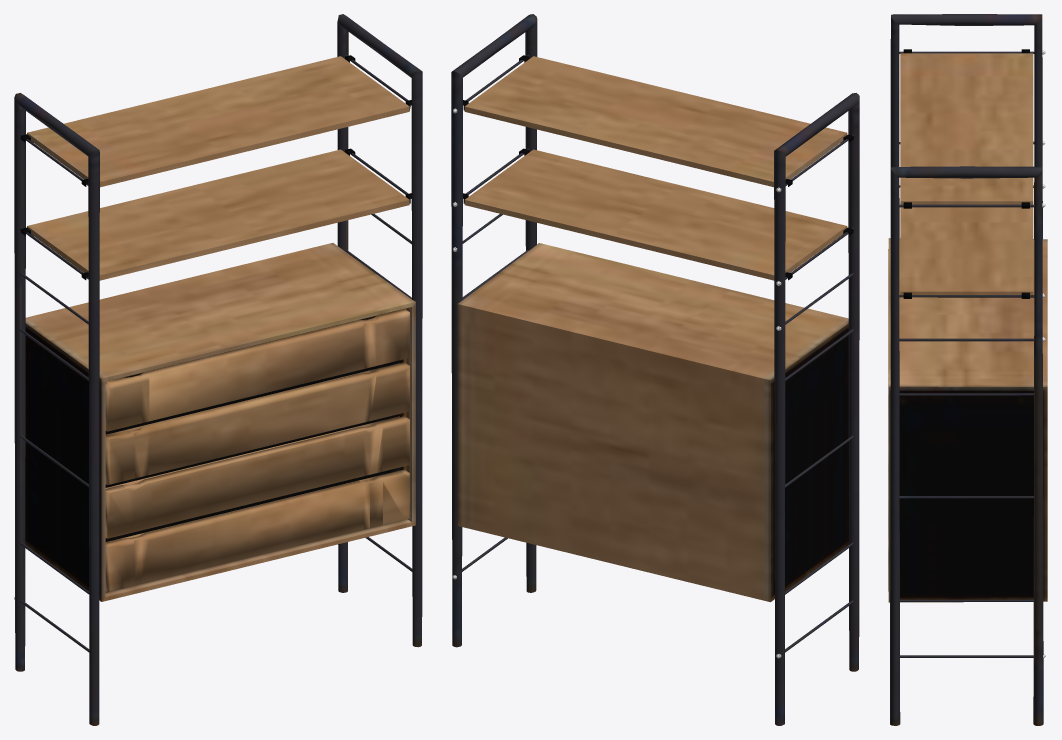
The model's file is dresser-drawer.lite.75bb02d1.glb.
3 views of the same model, side by side, from view 1: azimuth 30°, elevation 25°; view 2: azimuth 150°, elevation 25°; view 3: azimuth 270°, elevation 25° (orthographic). The views are drawn at different scales.
Visible parts, largest first — view 1: model; view 2: model; view 3: model.
Boxes of the visible parts, x1,y1,x2,y2 form: model: (14, 14, 422, 725); model: (451, 14, 859, 725); model: (888, 14, 1047, 725).
Size of the model in its own units: 1.14 by 1.88 by 0.4881.
1 material, 1 textured.
